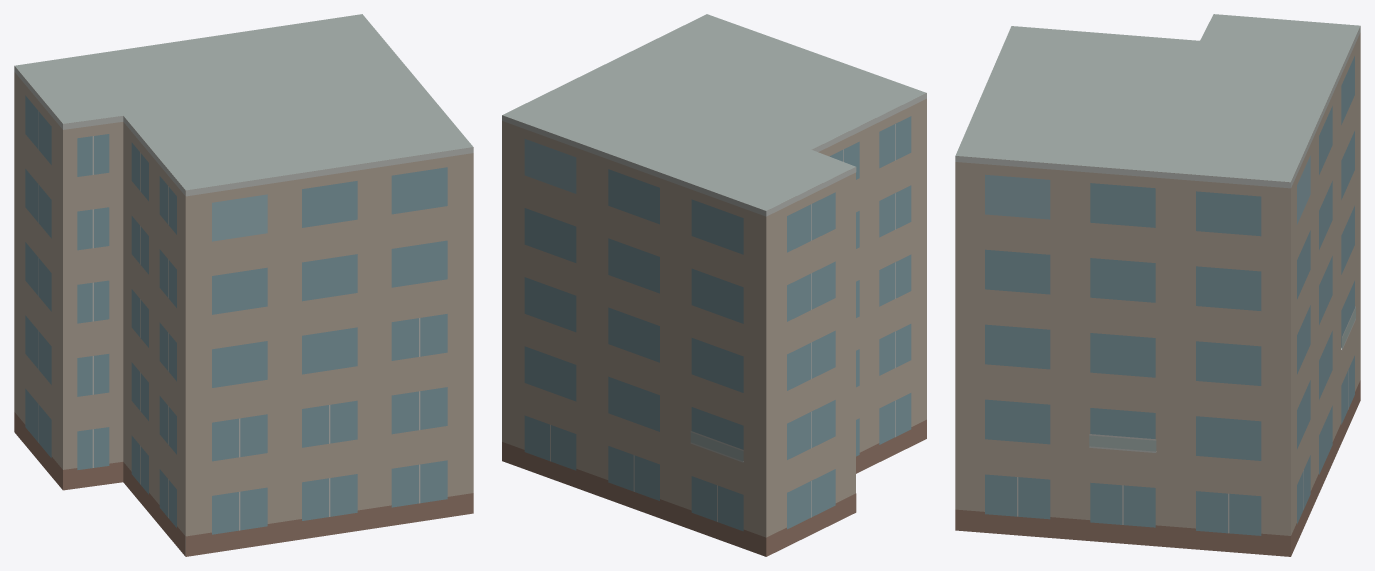
The model's file is survey-upis-32976260.glb.
The picture shows the model from 3 angles, left to right: view 1: azimuth 30°, elevation 25°; view 2: azimuth 150°, elevation 25°; view 3: azimuth 270°, elevation 25°; orthographic projection. The views are drawn at different scales.
Visible parts, largest first — view 1: survey-upis-32976260.tmp; view 2: survey-upis-32976260.tmp; view 3: survey-upis-32976260.tmp.
Part boxes in pixels (x1,y1,x2,y2): survey-upis-32976260.tmp: [14, 14, 473, 556]; survey-upis-32976260.tmp: [502, 14, 926, 556]; survey-upis-32976260.tmp: [955, 14, 1360, 556].
Size of the model in its own units: 14.41 by 14.95 by 14.67.
